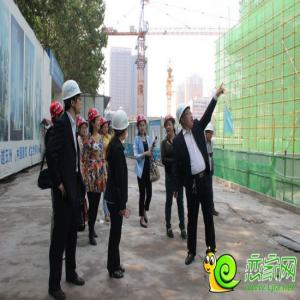red: (49, 102, 65, 125), (88, 109, 101, 132), (76, 116, 88, 138), (136, 115, 149, 135), (165, 115, 176, 138), (100, 117, 110, 135)
white: (62, 79, 83, 116), (112, 110, 130, 138), (177, 104, 195, 129), (205, 122, 215, 141)
